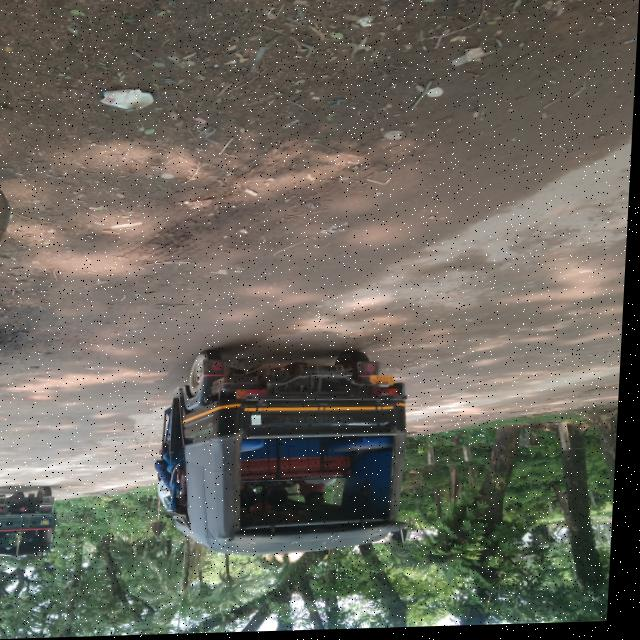plate: (372, 376, 400, 389), (44, 504, 59, 508)
